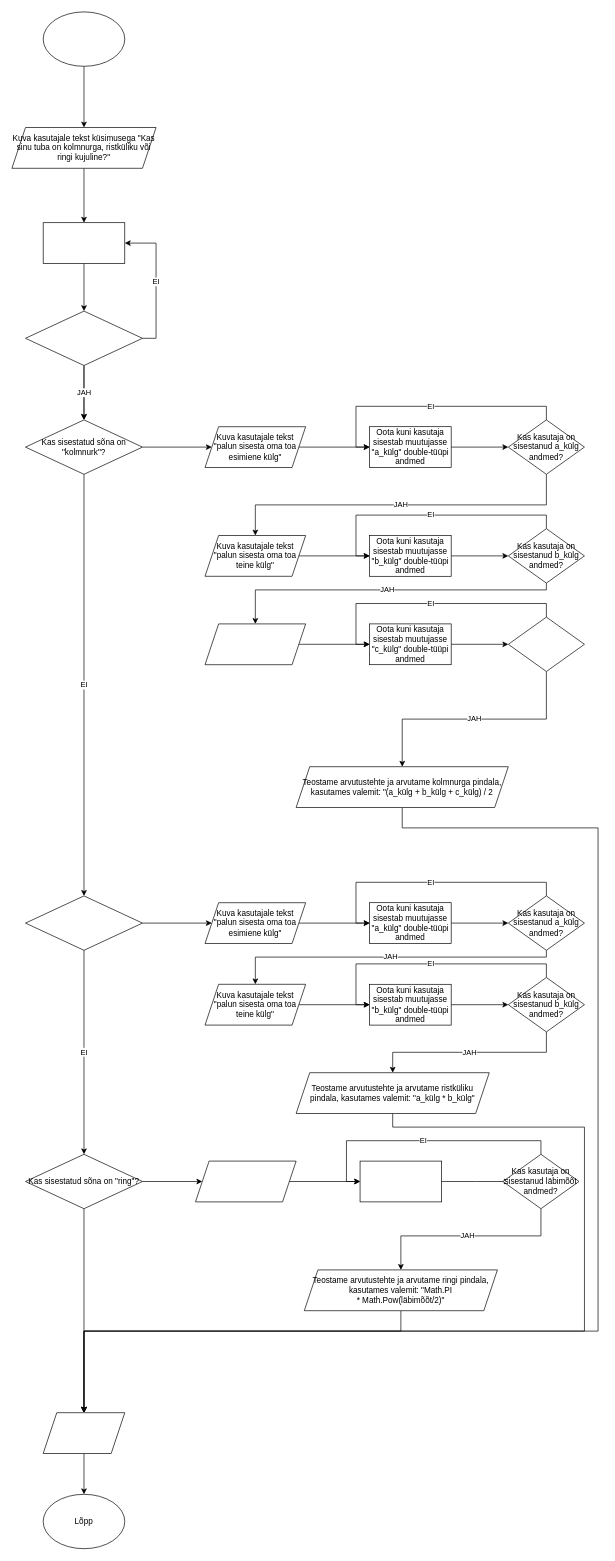
This 615x1561 diagram has some shape labels left out. The shapes that lost their labels are listed below. From the top down, each one's centre as x and y in pixels, then its label:
[83,38]: Algus
[83,243]: Ootame kuni kasutaja sisestab muutujasse "kujund" vastuse
[83,338]: Kas kasutaja on sisestanud midagi?
[255,644]: Kuva kasutajale tekst "palun sisesta oma toa kolmas külg"
[546,644]: Kas kasutaja on sisestanud c_külg andmed?
[83,922]: Kas sisestatud sõna on "ristkülik"?
[245,1181]: Kuva kasutajale tekst "palun sisesta oma toa läbimõõt"
[400,1181]: Oota kuni kasutaja sisestab muutujasse "läbimõõt" double-tüüpi andmed
[83,1433]: Kuvame kasutajale tulemuse lausega "Sinu toa pindala on (tulemus)
